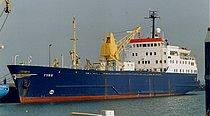Ship: (7, 7, 202, 109)
